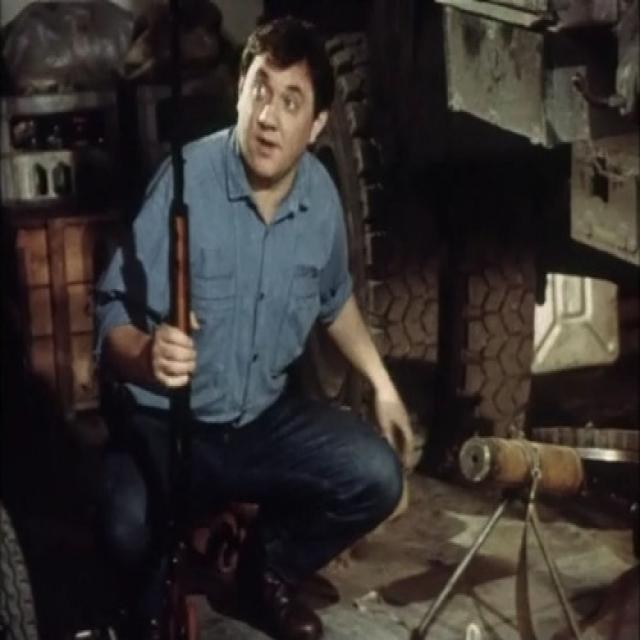rifle: (161, 122, 198, 640)
